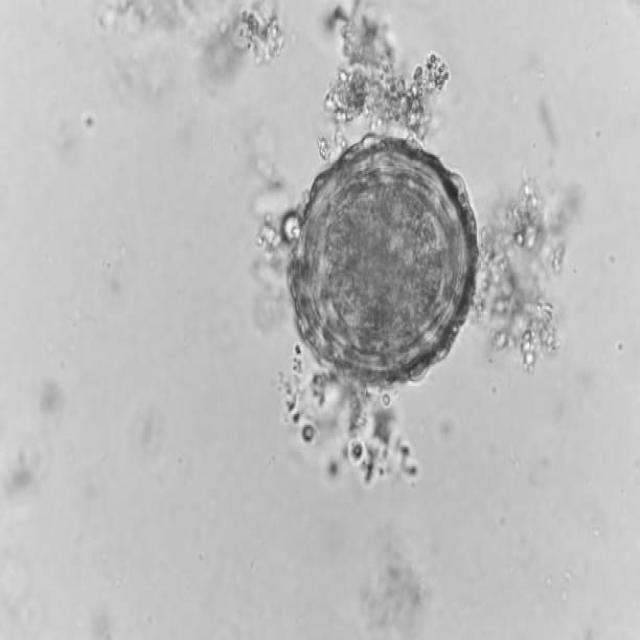Ascaris Lumbricoides: (284, 132, 479, 380)
